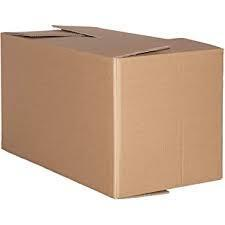box: (0, 25, 225, 200)
